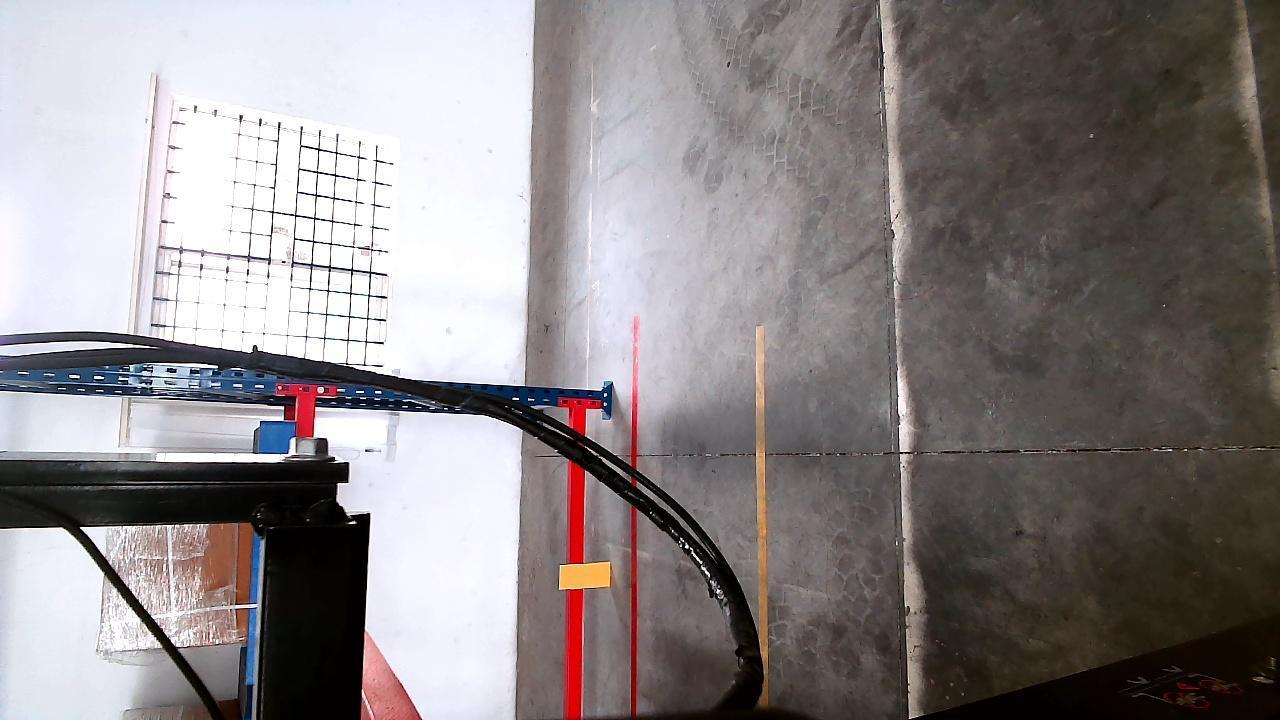h_rack: (569, 403, 587, 720)
orange_strip: (563, 563, 611, 590)
red_line: (625, 310, 645, 708)
yellow_line: (753, 335, 773, 692)
